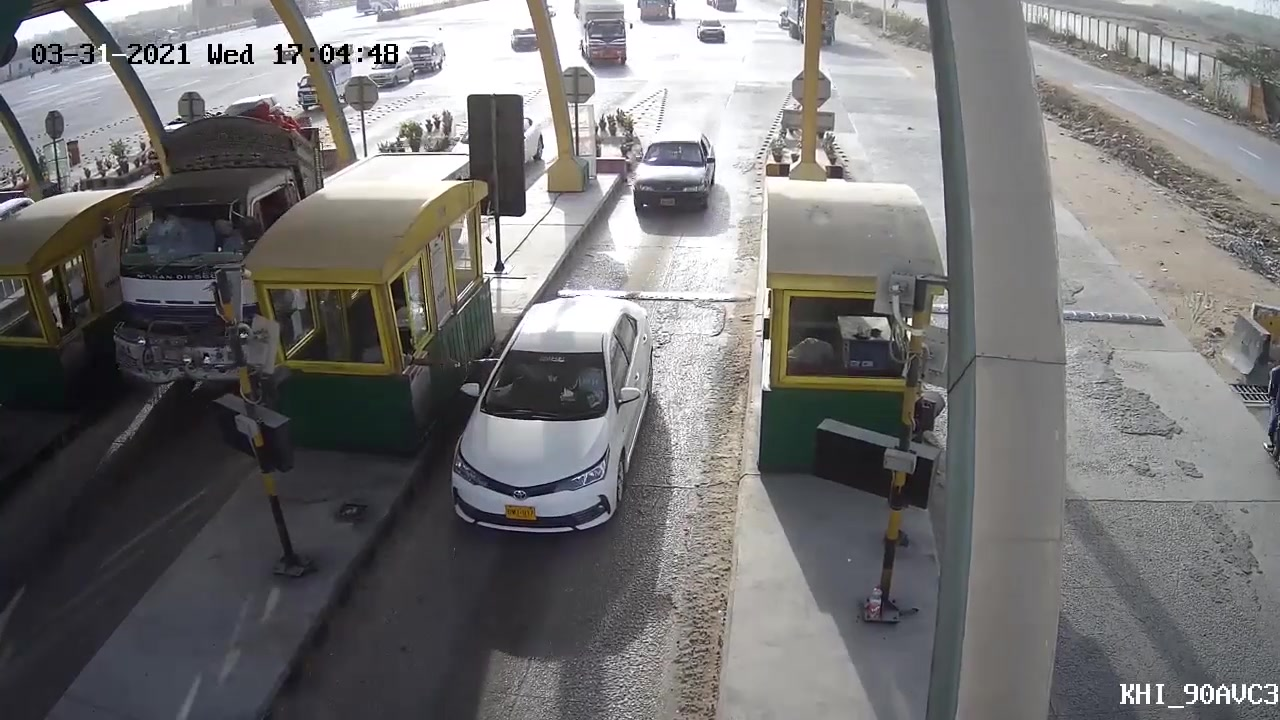F1: (450, 282, 664, 562), (621, 121, 722, 222)
